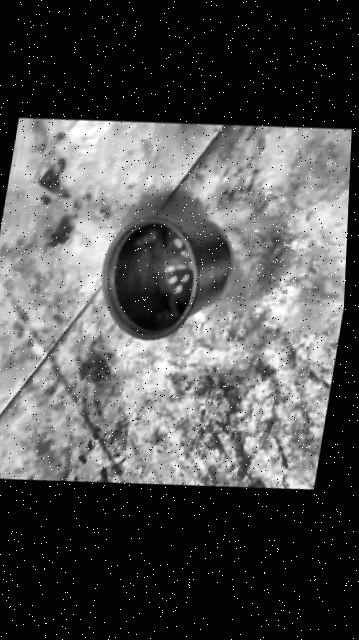pot: (89, 204, 237, 354)
